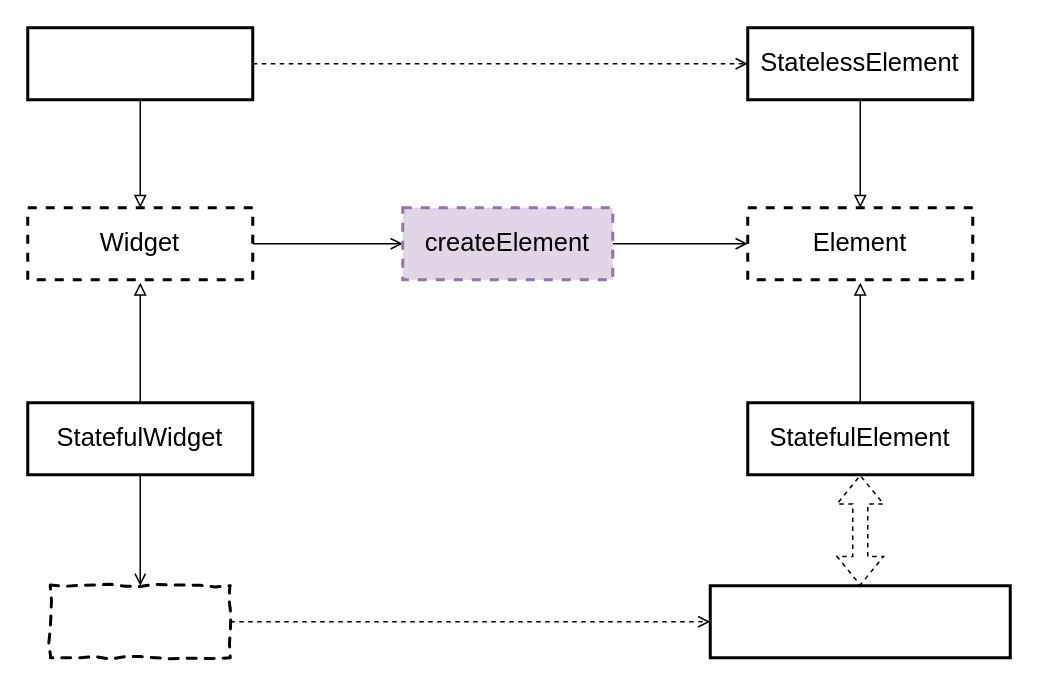
Image size: 1037x684. Some labels were removed from this diagram. Each missing label, with the box of its shape:
createState(): (48, 584, 231, 658)
State<StatefulWidget>: (708, 584, 1011, 658)
StatelessWidget: (26, 26, 254, 100)
